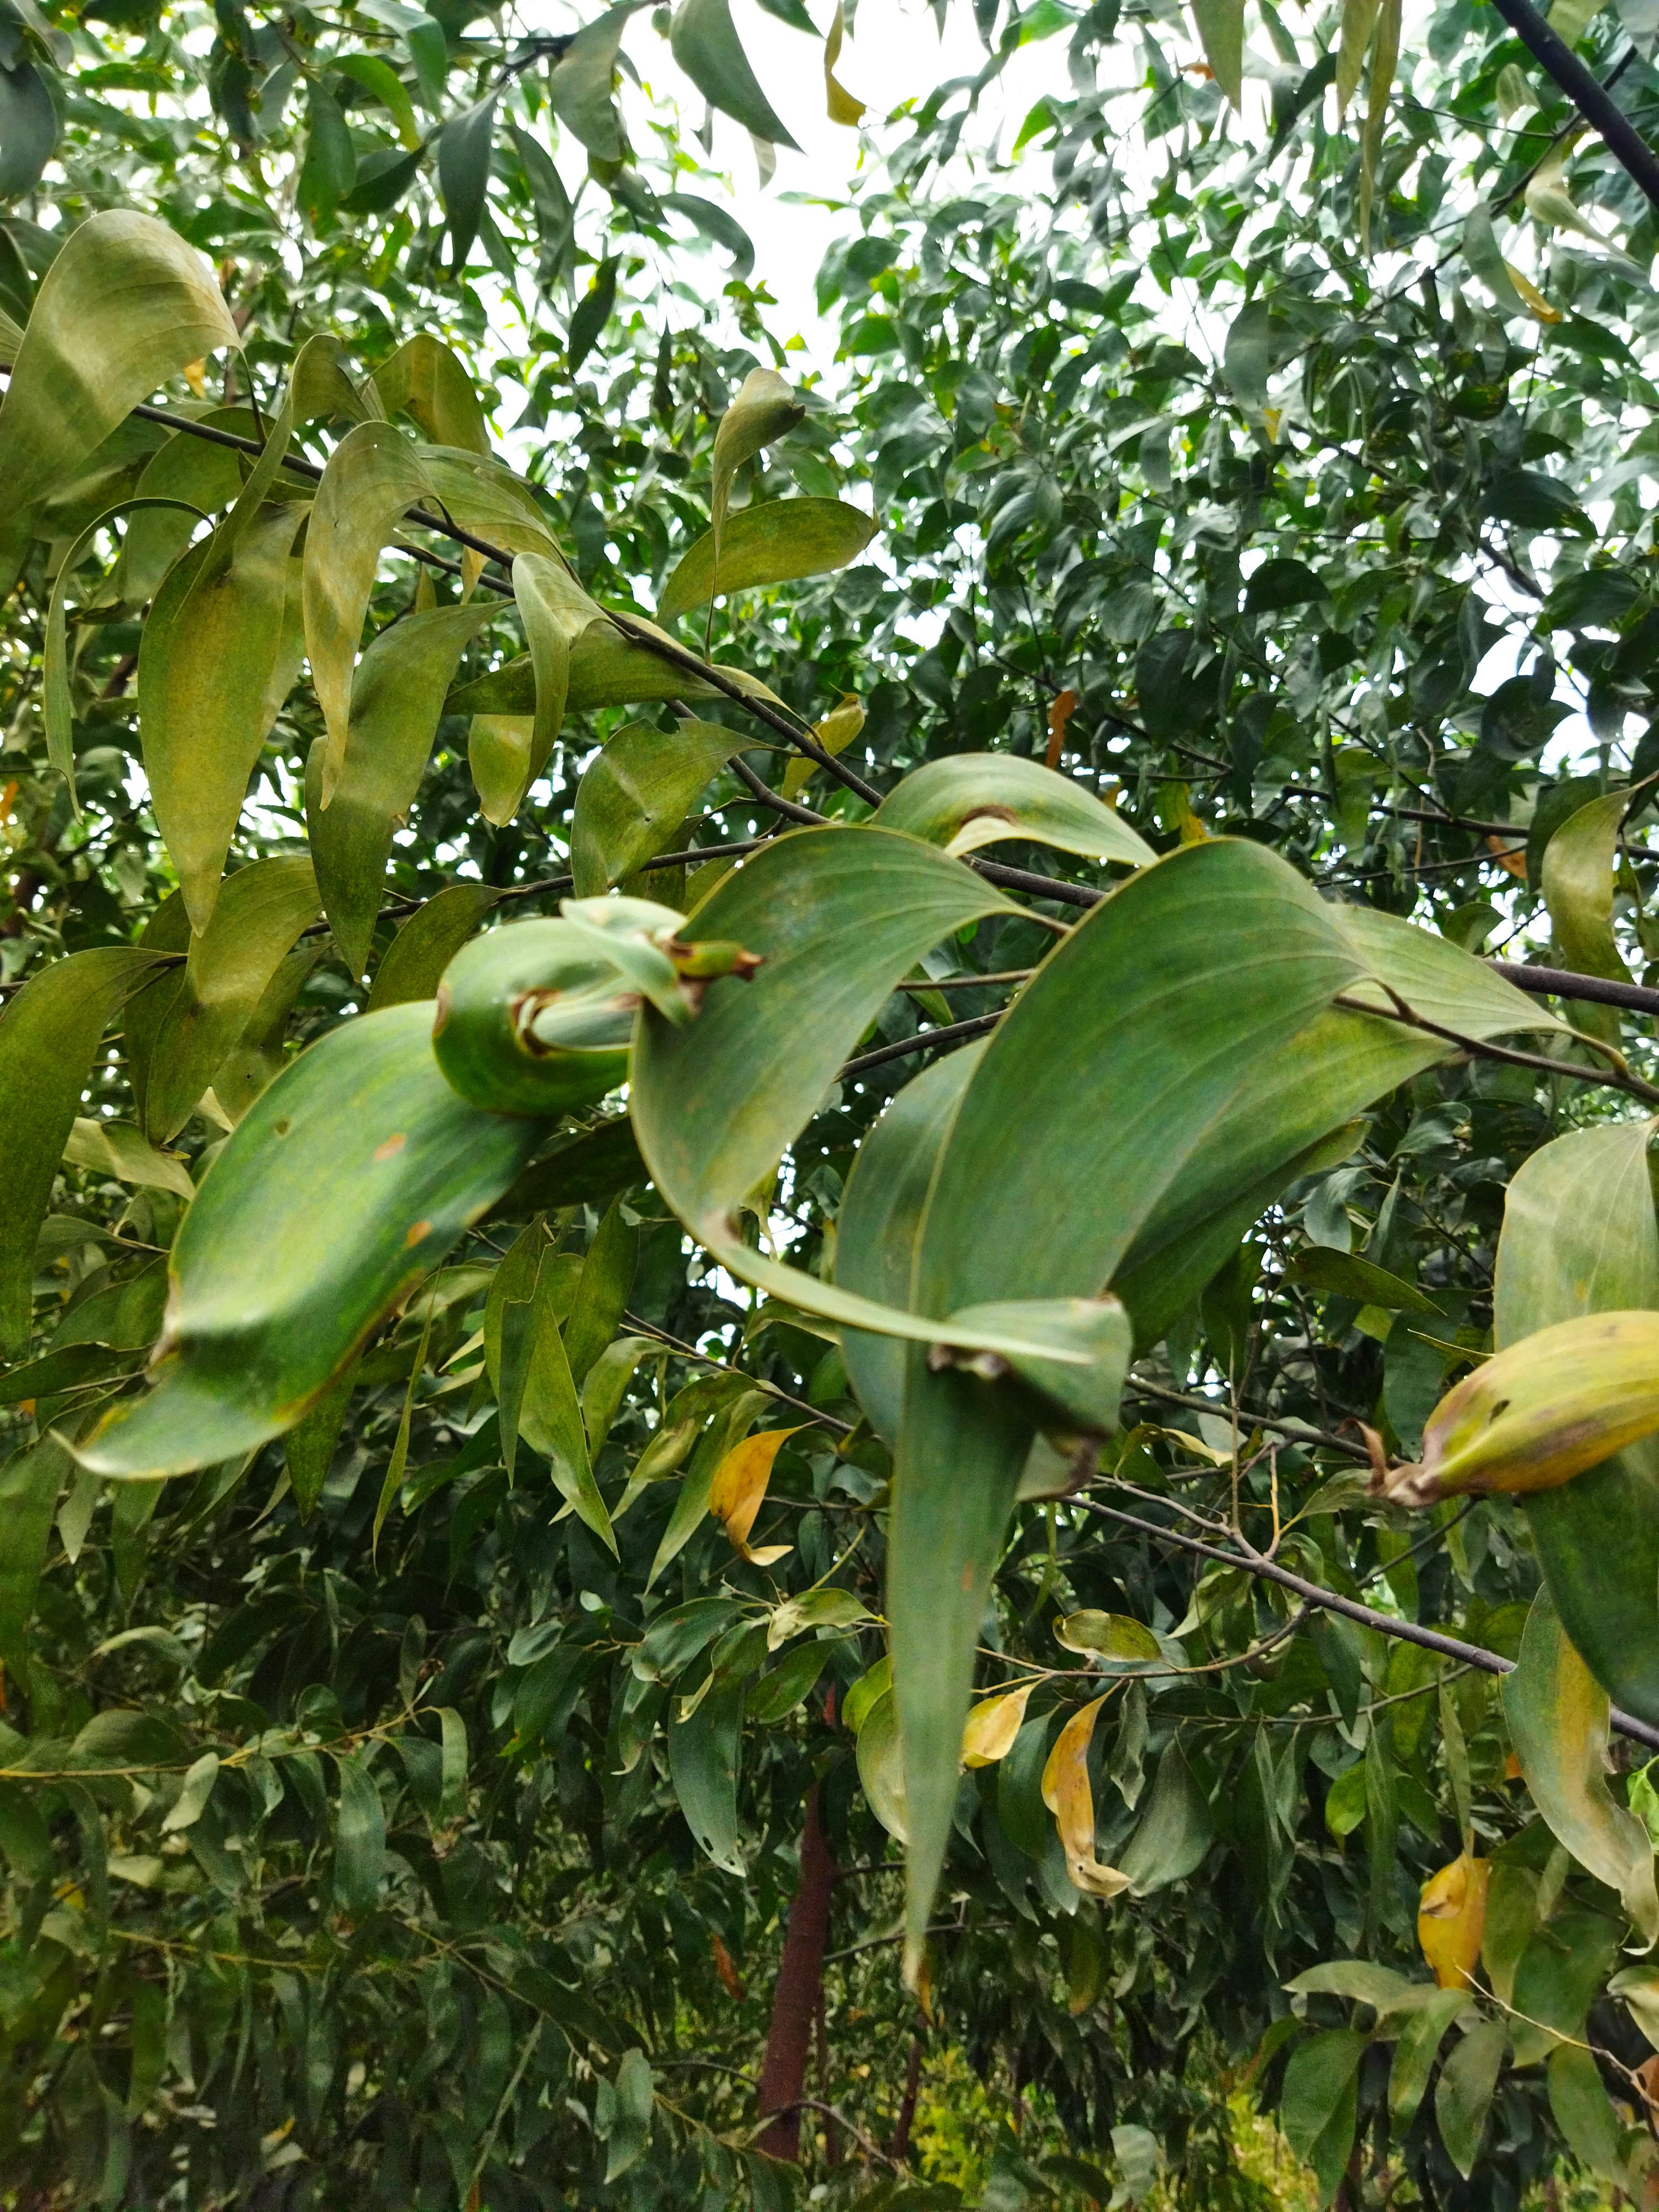Pasalora: (416, 874, 767, 1120), (931, 1256, 1147, 1526)
